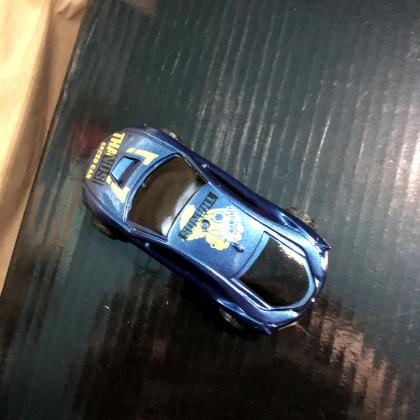Car: (82, 126, 330, 337)
